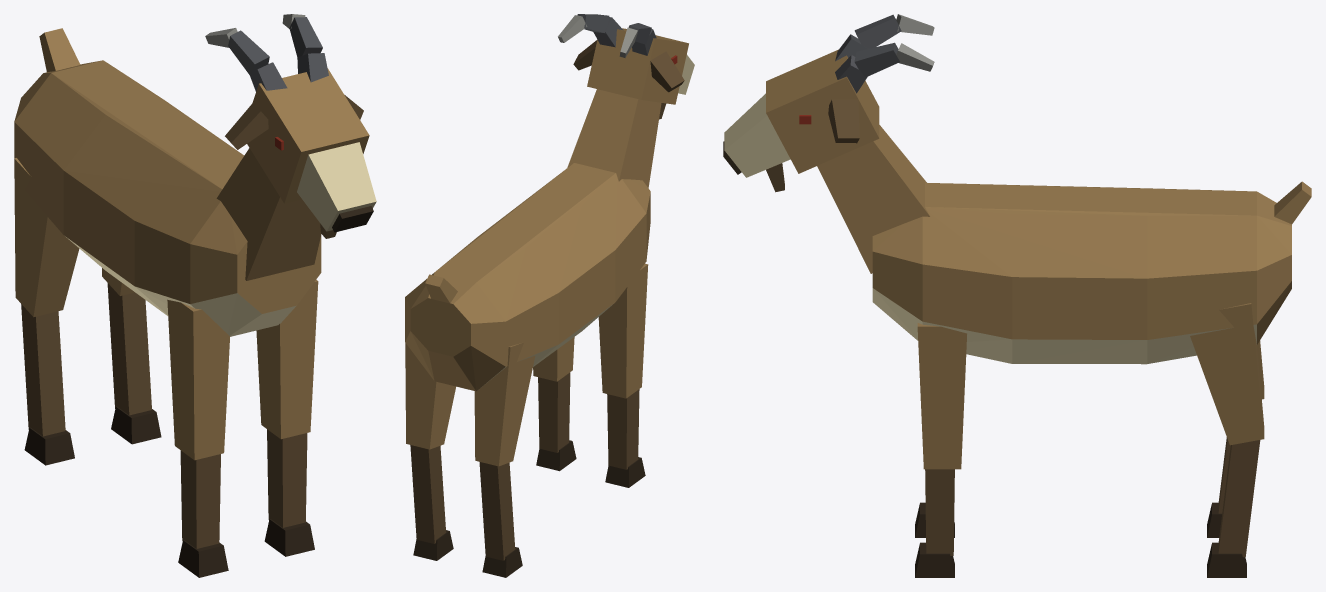
Rendered from goat.glb.
The picture shows the model from 3 angles, left to right: view 1: azimuth 30°, elevation 25°; view 2: azimuth 150°, elevation 25°; view 3: azimuth 270°, elevation 25°; orthographic projection. The views are drawn at different scales.
Parts seen in each view (by area): view 1: body, head, leg_fr, leg_br, leg_fl, neck, leg_bl, tail; view 2: body, leg_br, head, leg_fr, leg_bl, neck, leg_fl, tail; view 3: body, head, leg_bl, leg_fl, neck, leg_br, tail.
Boxes of the visible parts, bbox=[...] form: body: bbox=[14, 60, 321, 336]; head: bbox=[205, 14, 376, 238]; leg_fr: bbox=[167, 299, 230, 577]; leg_br: bbox=[14, 158, 79, 465]; leg_fl: bbox=[256, 279, 318, 556]; neck: bbox=[216, 148, 321, 280]; leg_bl: bbox=[102, 268, 161, 444]; tail: bbox=[39, 28, 80, 71]; body: bbox=[405, 163, 650, 391]; leg_br: bbox=[474, 342, 535, 577]; head: bbox=[558, 14, 694, 119]; leg_fr: bbox=[598, 263, 648, 487]; leg_bl: bbox=[405, 343, 455, 560]; neck: bbox=[567, 89, 661, 187]; leg_fl: bbox=[533, 337, 576, 471]; tail: bbox=[425, 274, 457, 303]; body: bbox=[872, 182, 1291, 364]; head: bbox=[723, 14, 934, 192]; leg_bl: bbox=[1190, 303, 1264, 577]; leg_fl: bbox=[915, 323, 966, 577]; neck: bbox=[817, 125, 929, 273]; leg_br: bbox=[1207, 341, 1264, 537]; tail: bbox=[1274, 181, 1311, 224].
Size of the model in its own units: 0.3141 by 1.15 by 1.18.
